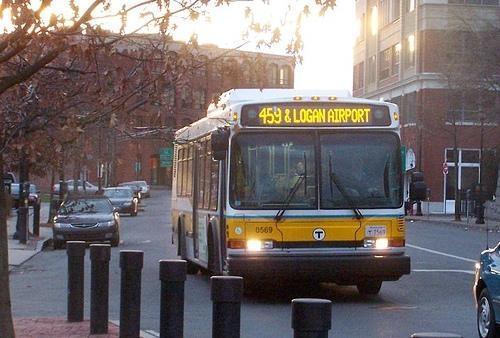bus: (168, 88, 413, 298)
car: (52, 195, 120, 249), (473, 240, 500, 335), (99, 187, 139, 216), (10, 184, 41, 209), (52, 180, 98, 196), (116, 182, 143, 200), (132, 182, 150, 196)
